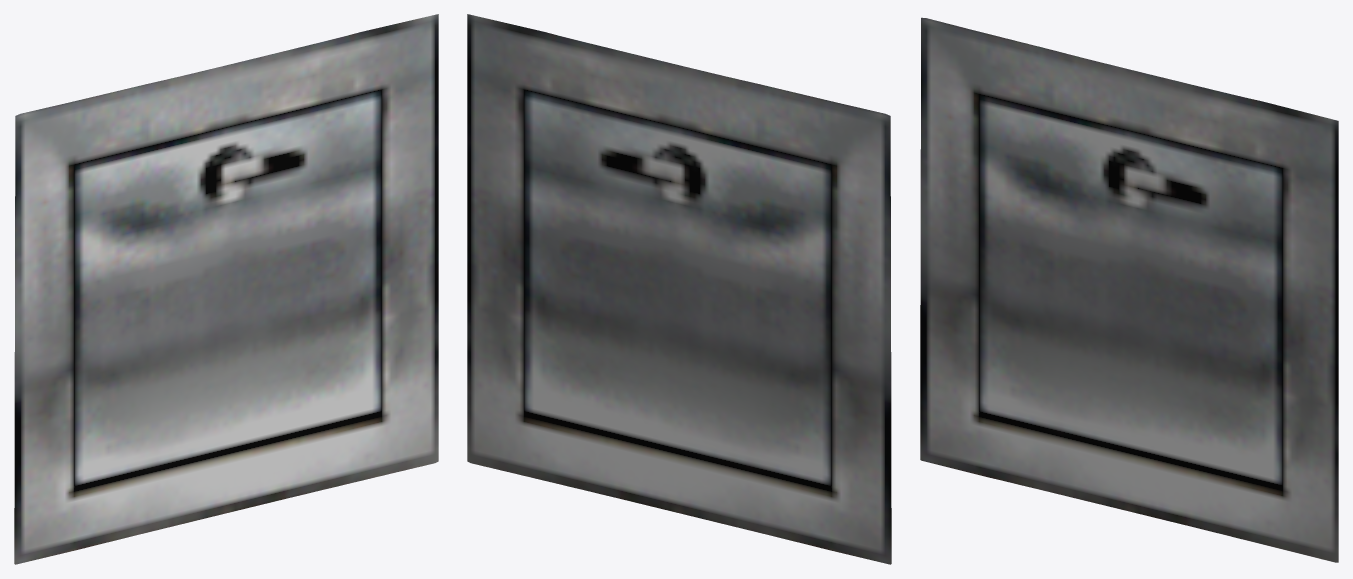
The model's file is garbage_chute.FBX.
3 renders of one model, left to right at view 1: azimuth 30°, elevation 25°; view 2: azimuth 150°, elevation 25°; view 3: azimuth 330°, elevation 25°, orthographic.
Parts seen in each view (by area): view 1: garbage_chute; view 2: garbage_chute; view 3: garbage_chute.
Boxes of the visible parts, left/top/right/bottom form: garbage_chute: left=14, top=14, right=438, bottom=564; garbage_chute: left=467, top=14, right=891, bottom=564; garbage_chute: left=920, top=17, right=1338, bottom=562.
Size of the model in its own units: 13.9 by 14.24 by 5.5e-06.
